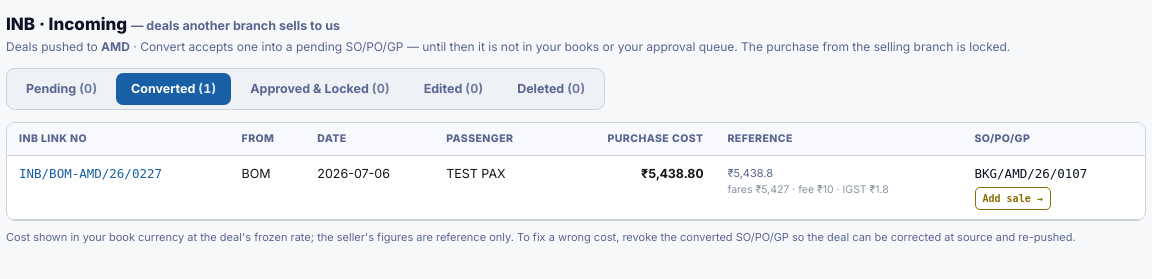
an empty Pending tab points at the Converted tab when rows are hiding there
The image size is (1152, 279).
Click the tab "Pending (0)" at (62, 89), box [11,72,112,105]
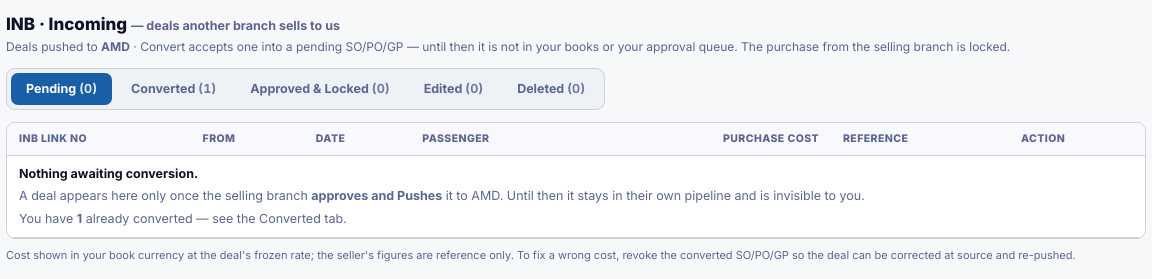
Check: the text "You have 1 already converted — see the Converted tab." is shown, box [19,210,347,226]
